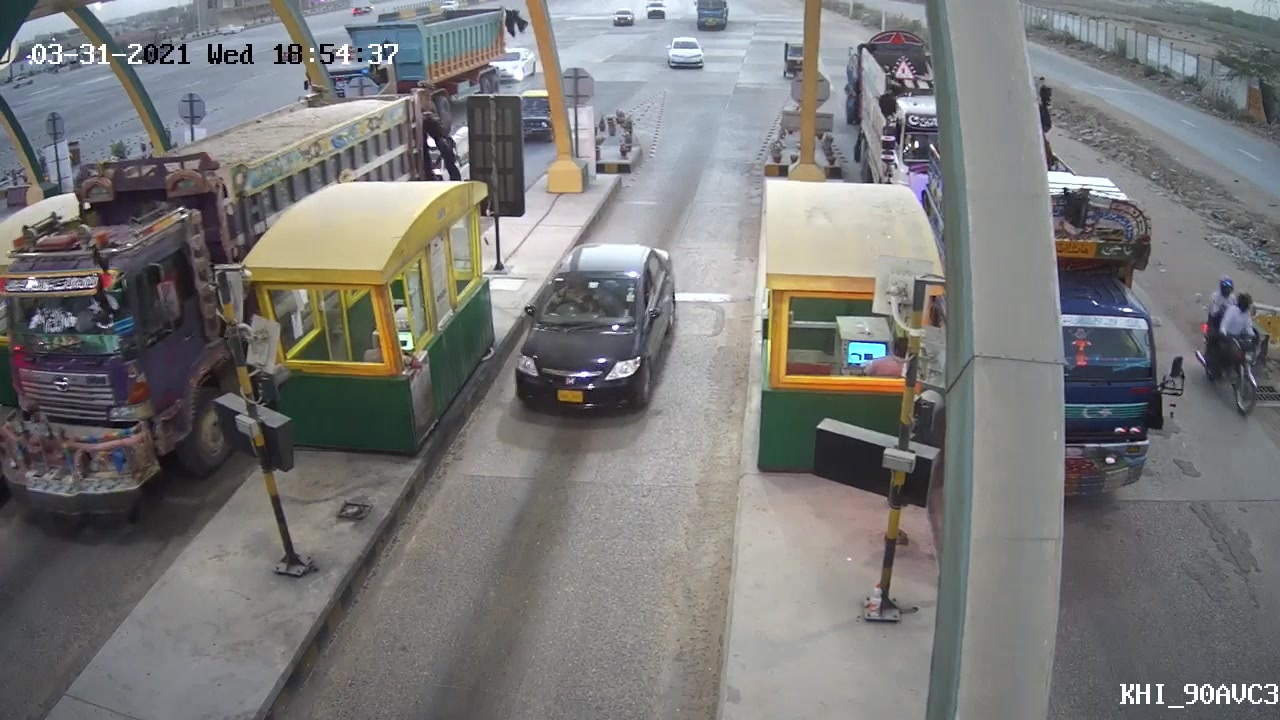F1: (497, 234, 680, 423)
